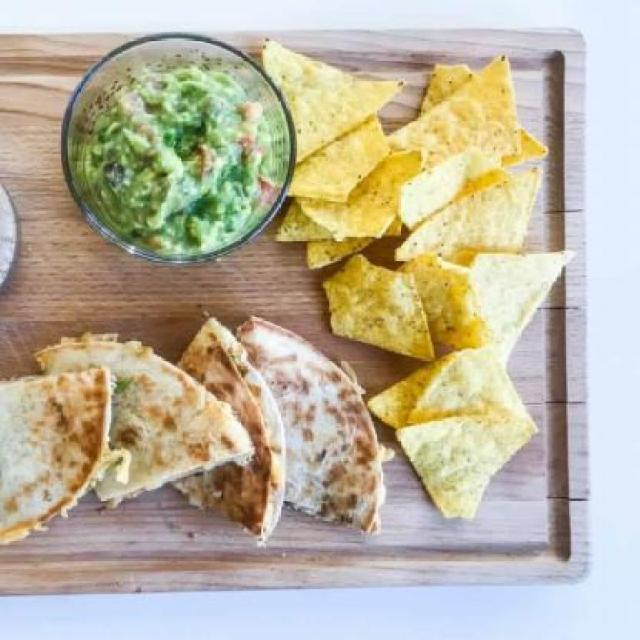guacamole: (73, 49, 278, 262)
nachos: (258, 35, 558, 530)
